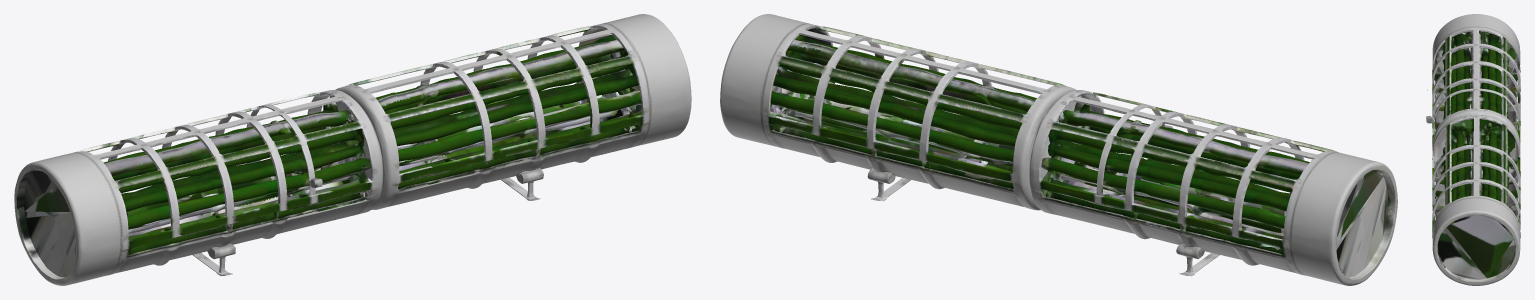
File: farm.glb
3 renders of one model, left to right at view 1: azimuth 30°, elevation 25°; view 2: azimuth 150°, elevation 25°; view 3: azimuth 270°, elevation 25°, orthographic. The views are drawn at different scales.
Visible parts, largest first — view 1: tripo_node_85567bdd-054f-439b-954d-ef7a9b2cdc59; view 2: tripo_node_85567bdd-054f-439b-954d-ef7a9b2cdc59; view 3: tripo_node_85567bdd-054f-439b-954d-ef7a9b2cdc59.
Boxes of the visible parts, bbox=[...] form: tripo_node_85567bdd-054f-439b-954d-ef7a9b2cdc59: bbox=[14, 14, 691, 285]; tripo_node_85567bdd-054f-439b-954d-ef7a9b2cdc59: bbox=[720, 14, 1397, 285]; tripo_node_85567bdd-054f-439b-954d-ef7a9b2cdc59: bbox=[1426, 14, 1520, 285].
Size of the model in its own units: 1 by 0.1953 by 0.2013.
Materials: 1 (1 with a texture image).
